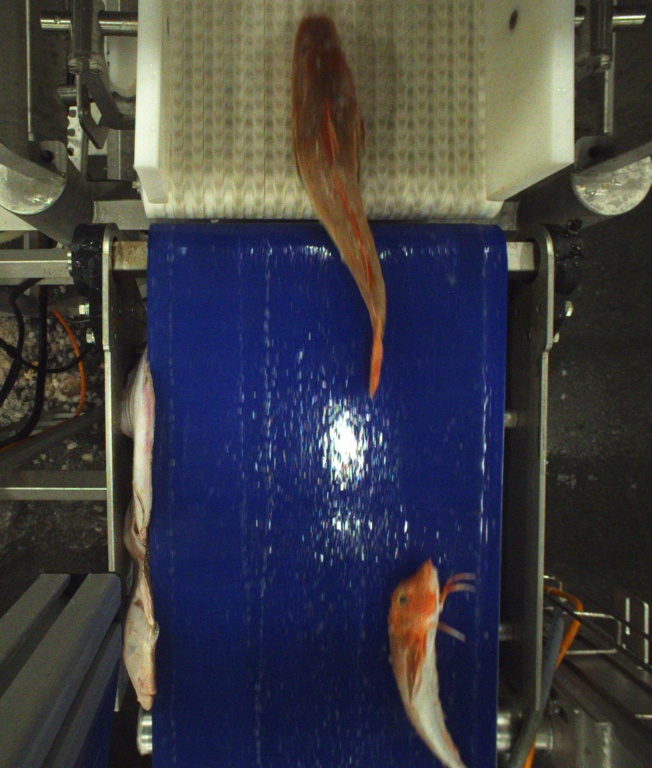GUU: (287, 14, 387, 397)
